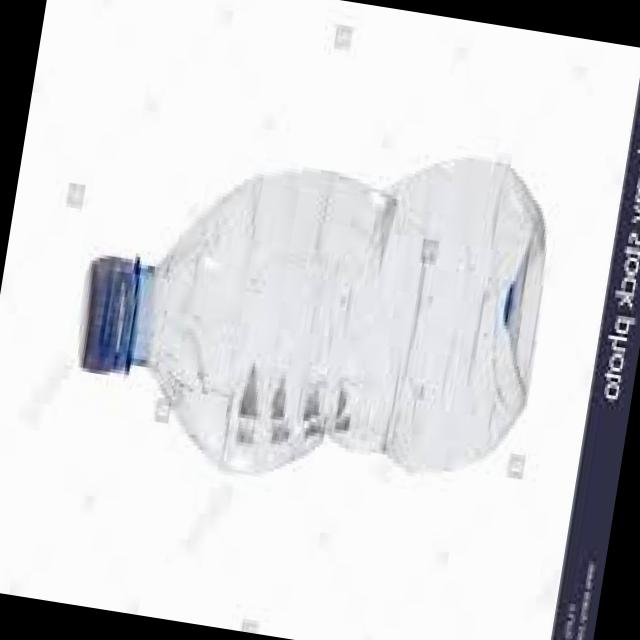plastic: (51, 94, 574, 523)
